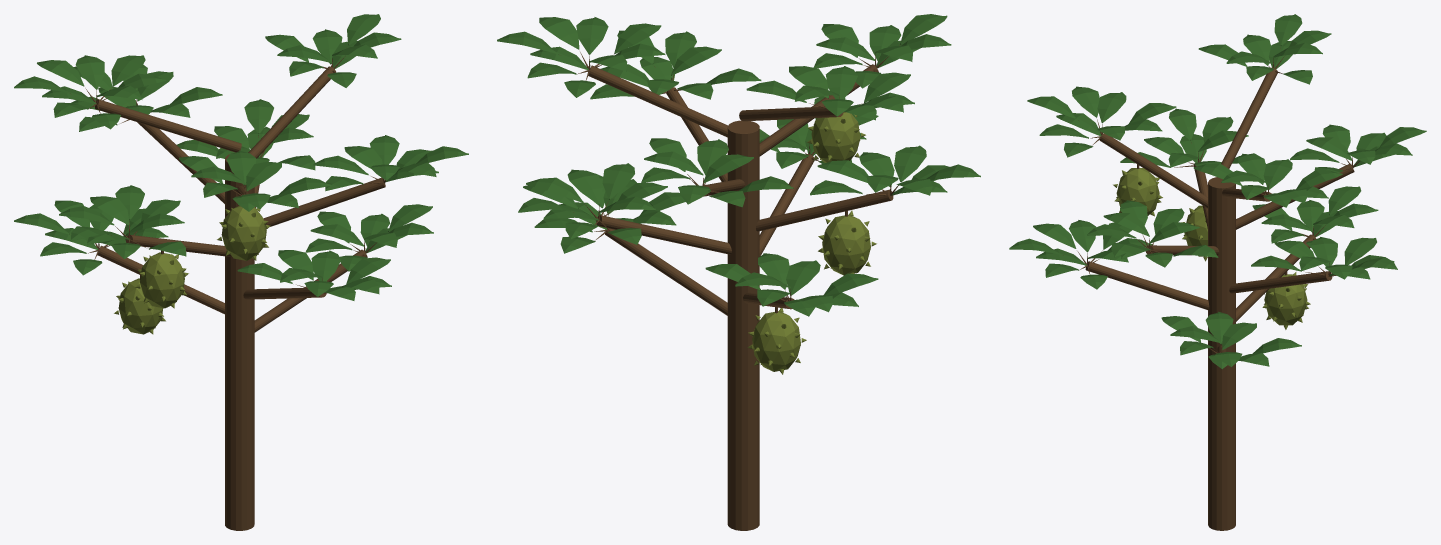
The picture shows the model from 3 angles, left to right: view 1: azimuth 30°, elevation 25°; view 2: azimuth 150°, elevation 25°; view 3: azimuth 270°, elevation 25°; orthographic projection. The views are drawn at different scales.
Parts seen in each view (by area): view 1: DURIAN_Trunk, DURIAN_Fruit.002, DURIAN_Fruit, DURIAN_Branch.009, DURIAN_Fruit.001, DURIAN_Branch.005, DURIAN_Branch.008, DURIAN_Branch.001, DURIAN_Branch.004, DURIAN_Branch, DURIAN_Branch.002, DURIAN_Branch.006 (+18 smaller); view 2: DURIAN_Trunk, DURIAN_Fruit.001, DURIAN_Fruit.002, DURIAN_Fruit, DURIAN_Branch.008, DURIAN_Branch.004, DURIAN_Branch, DURIAN_Branch.003, DURIAN_Branch.009, DURIAN_Branch.002, DURIAN_Branch.007, DURIAN_Leaf.079 (+26 smaller); view 3: DURIAN_Trunk, DURIAN_Fruit.001, DURIAN_Branch.002, DURIAN_Fruit, DURIAN_Branch.007, DURIAN_Branch.009, DURIAN_Branch.003, DURIAN_Branch.006, DURIAN_Branch.001, DURIAN_Fruit.002, DURIAN_Leaf, DURIAN_Leaf.045 (+16 smaller).
Part boxes in pixels (<box>): DURIAN_Trunk: <box>225,154,254,530</box>; DURIAN_Fruit.002: <box>140,252,184,308</box>; DURIAN_Fruit: <box>221,205,266,260</box>; DURIAN_Branch.009: <box>95,99,241,152</box>; DURIAN_Fruit.001: <box>118,278,163,334</box>; DURIAN_Branch.005: <box>263,177,385,226</box>; DURIAN_Branch.008: <box>248,66,336,158</box>; DURIAN_Branch.001: <box>97,245,224,314</box>; DURIAN_Branch.004: <box>125,235,231,256</box>; DURIAN_Branch: <box>254,249,367,332</box>; DURIAN_Branch.002: <box>243,287,326,299</box>; DURIAN_Branch.006: <box>137,122,224,203</box>; DURIAN_Trunk: <box>727,120,759,530</box>; DURIAN_Fruit.001: <box>752,311,800,371</box>; DURIAN_Fruit.002: <box>822,214,870,275</box>; DURIAN_Fruit: <box>811,112,860,162</box>; DURIAN_Branch.008: <box>588,65,727,137</box>; DURIAN_Branch.004: <box>756,189,893,231</box>; DURIAN_Branch: <box>605,228,727,315</box>; DURIAN_Branch.003: <box>596,215,731,254</box>; DURIAN_Branch.009: <box>739,106,843,121</box>; DURIAN_Branch.002: <box>759,154,814,256</box>; DURIAN_Branch.007: <box>759,64,878,156</box>; DURIAN_Leaf.079: <box>576,17,608,54</box>; DURIAN_Trunk: <box>1208,177,1235,530</box>; DURIAN_Fruit.001: <box>1264,274,1307,325</box>; DURIAN_Branch.002: <box>1085,261,1209,310</box>; DURIAN_Fruit: <box>1116,168,1159,215</box>; DURIAN_Branch.007: <box>1099,133,1207,208</box>; DURIAN_Branch.009: <box>1221,67,1277,168</box>; DURIAN_Branch.003: <box>1229,271,1332,293</box>; DURIAN_Branch.006: <box>1236,163,1354,229</box>; DURIAN_Branch.001: <box>1236,234,1316,321</box>; DURIAN_Fruit.002: <box>1184,205,1207,256</box>; DURIAN_Leaf: <box>1274,14,1302,45</box>; DURIAN_Leaf.045: <box>1169,108,1196,140</box>.
Bounding box in the file's own units: 3.92 × 4.38 × 3.86.
